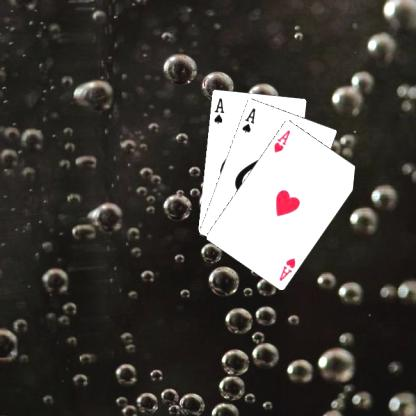AH: (276, 255, 297, 282), (271, 127, 291, 154)
AS: (239, 105, 257, 134), (211, 95, 225, 125)
